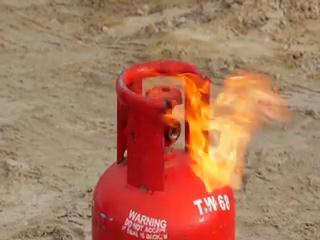Fire: (120, 36, 272, 188)
